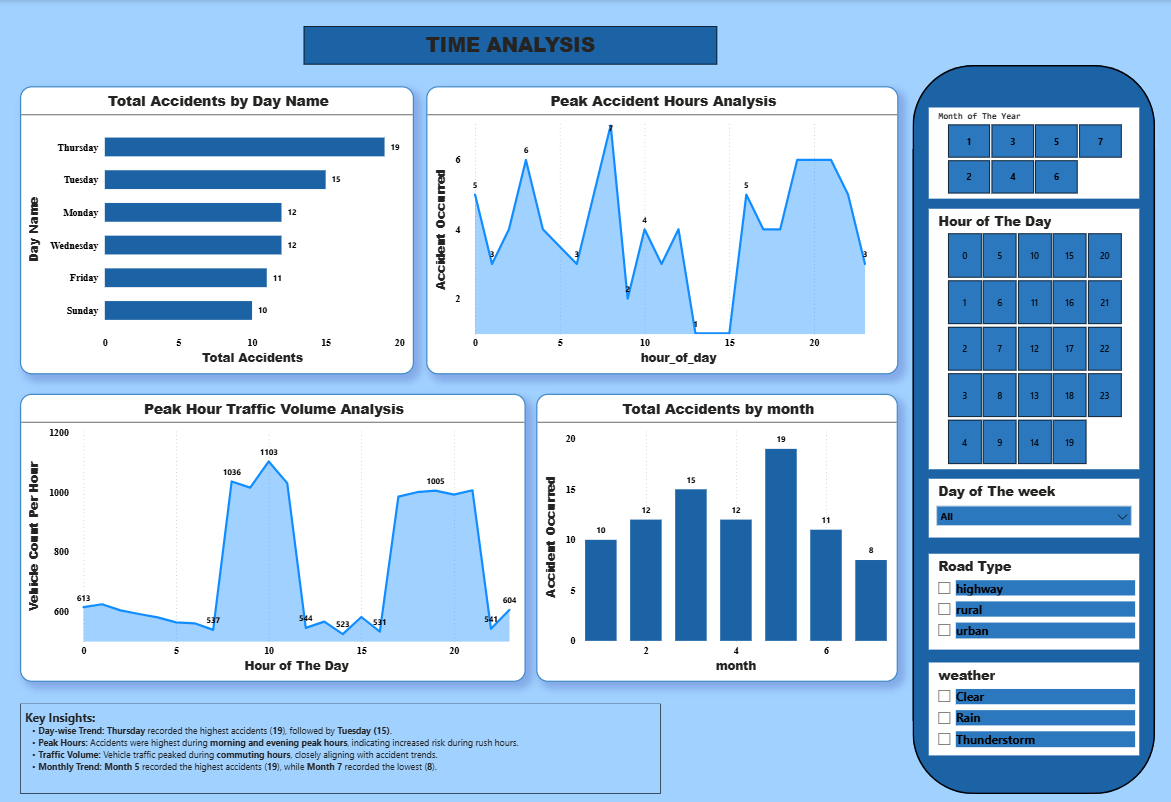

Layout of this report page (visuals, bound fields, positions):
{"tool":"powerbi","page":{"name":"Time Analysis","canvas":[1600,1100],"ordinal":2},"visuals":[{"type":"lineChart","title":"Peak Hour Traffic Volume Analysis","fields":{"Category":["road_accidents.hour_of_day"],"Y":["Avg(road_accidents.vehicle_count_per_hr)"]},"box":[28,536,688,392],"z":0},{"type":"lineChart","title":"Peak Accident Hours Analysis","fields":{"Y":["road_accidents.Total Accidents"],"Category":["road_accidents.hour_of_day"]},"box":[580,118,642,392],"z":1000},{"type":"clusteredBarChart","fields":{"Category":["road_accidents.Day Name"],"Y":["road_accidents.Total Accidents"]},"box":[28,118,536,392],"z":2000},{"type":"clusteredColumnChart","fields":{"Category":["road_accidents.month"],"Y":["road_accidents.Total Accidents"]},"box":[730,536,492,392],"z":3000},{"type":"shape","box":[1242,88,330,992],"z":4000},{"type":"slicer","fields":{"Values":["road_accidents.road_type"]},"box":[1264,754,286,130],"z":5000},{"type":"slicer","fields":{"Values":["road_accidents.day_of_week"]},"box":[1264,652,286,80],"z":6000},{"type":"slicer","fields":{"Values":["road_accidents.weather"]},"box":[1264,902,286,126],"z":7000},{"type":"slicer","fields":{"Values":["road_accidents.hour_of_day"]},"box":[1264,284,286,354],"z":8000},{"type":"slicer","fields":{"Values":["road_accidents.month"]},"box":[1264,146,286,124],"z":9000},{"type":"textbox","box":[414,36,562,52],"z":10000},{"type":"textbox","box":[28,958,872,122],"z":11000}]}

Visuals, with their boxes in screenshot pixels (x1, y1, x2, y2), scaled from the page's 1600x1100 canvas onto the 1171x802 screenshot:
"Peak Hour Traffic Volume Analysis" lineChart: [20,391,524,677]
"Peak Accident Hours Analysis" lineChart: [424,86,894,372]
clusteredBarChart - road_accidents.Day Name x road_accidents.Total Accidents: [20,86,413,372]
clusteredColumnChart - road_accidents.month x road_accidents.Total Accidents: [534,391,894,677]
shape: [909,64,1151,787]
slicer - road_accidents.road_type: [925,550,1134,645]
slicer - road_accidents.day_of_week: [925,475,1134,534]
slicer - road_accidents.weather: [925,658,1134,750]
slicer - road_accidents.hour_of_day: [925,207,1134,465]
slicer - road_accidents.month: [925,106,1134,197]
textbox: [303,26,714,64]
textbox: [20,698,659,787]
